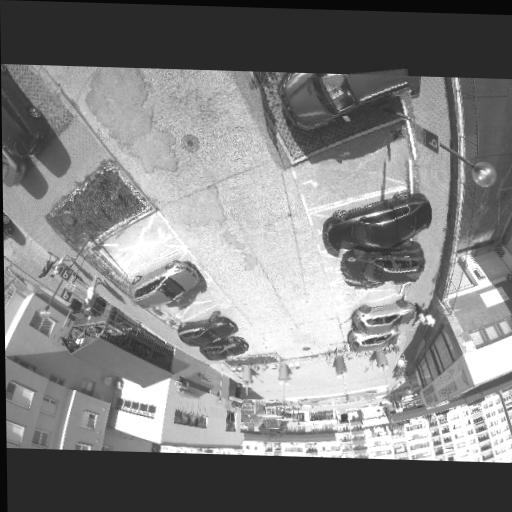busy: (263, 68, 418, 173), (316, 199, 428, 257), (336, 239, 430, 295), (128, 260, 202, 309), (351, 300, 417, 335), (175, 314, 234, 348), (203, 334, 249, 362), (351, 328, 402, 353)
free: (311, 151, 382, 187), (116, 225, 168, 261), (177, 291, 220, 322), (355, 281, 396, 303)
